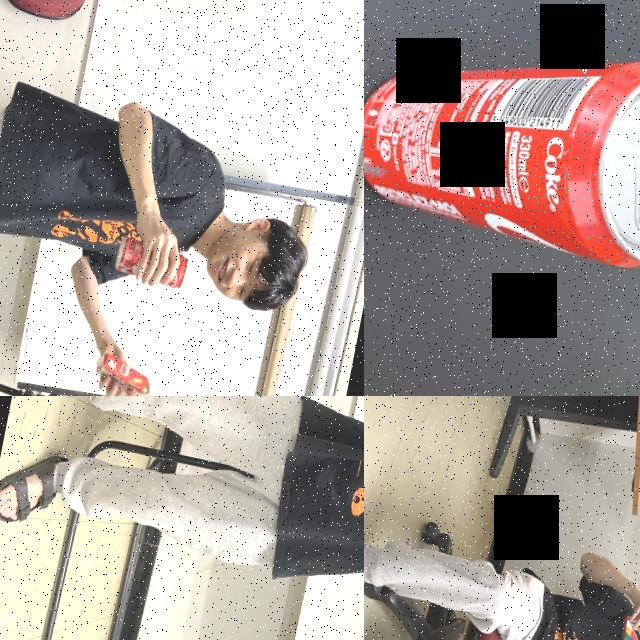can: (364, 5, 640, 286), (111, 234, 190, 292)
